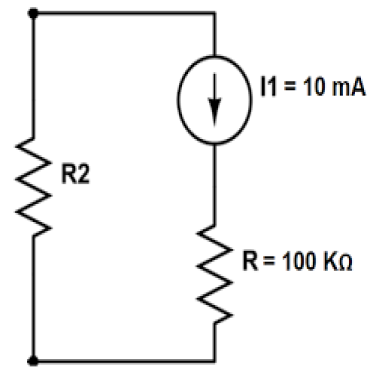Current Source: (175, 54, 367, 147)
Resistor: (195, 220, 355, 326), (14, 134, 91, 236)
